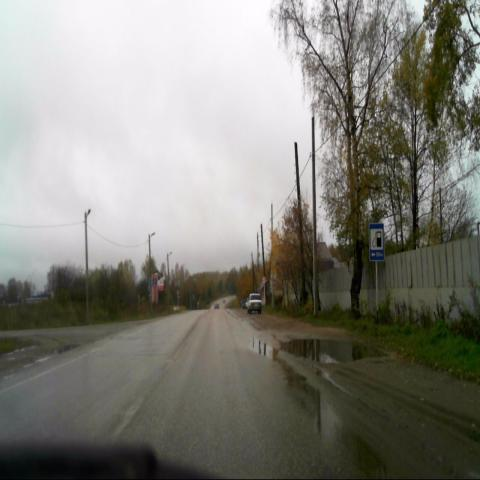7_3: (370, 224, 384, 262)
